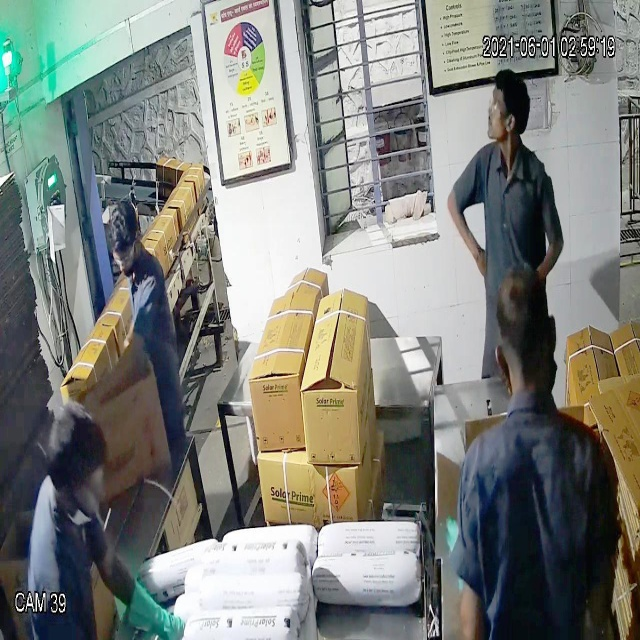Gafas: (105, 237, 145, 275), (484, 90, 516, 127)
